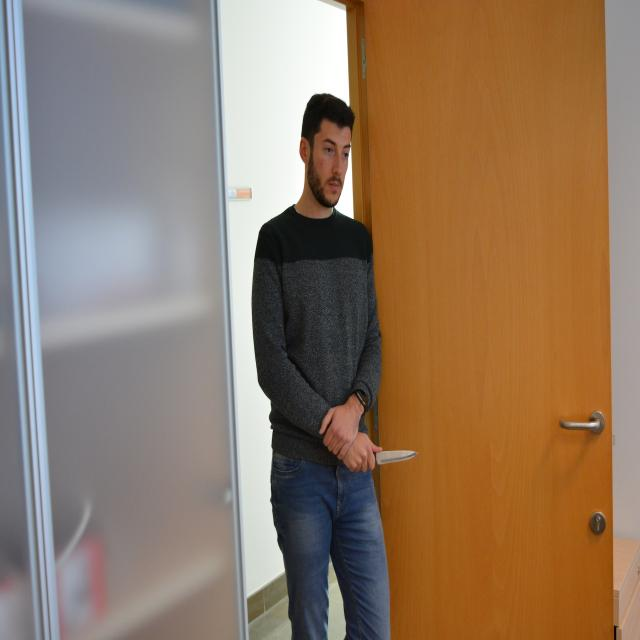knife: (376, 446, 421, 478)
